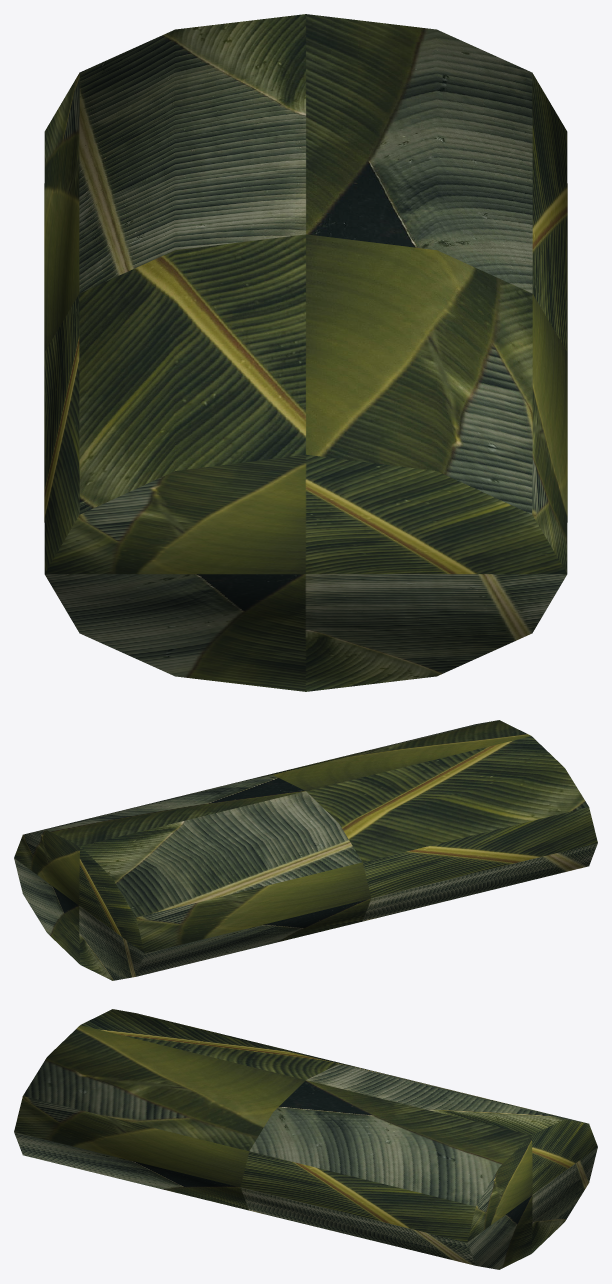
File: Tamal.fbx
The picture shows the model from 3 angles, top to bottom: view 1: azimuth 30°, elevation 25°; view 2: azimuth 150°, elevation 25°; view 3: azimuth 270°, elevation 25°; orthographic projection. The views are drawn at different scales.
Visible parts, largest first — view 1: Tamal; view 2: Tamal; view 3: Tamal.
Boxes of the visible parts, x1,y1,x2,y2 form: Tamal: (44,14,567,691); Tamal: (14,720,597,980); Tamal: (14,1009,597,1269).
Bounding box in the file's own units: 112 × 30 × 134.
Materials: 1 (1 with a texture image).
